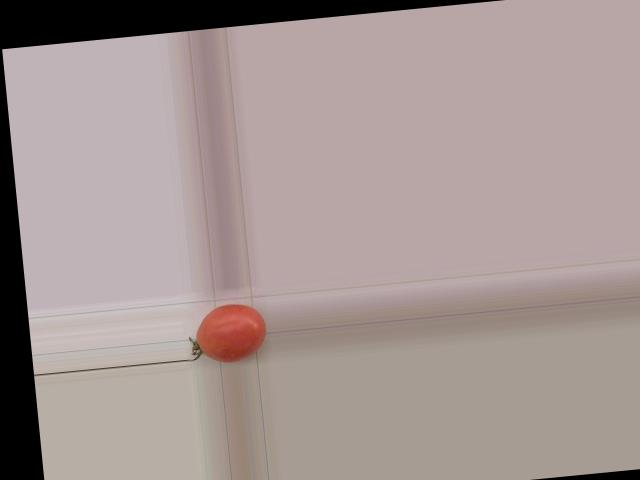tomato: (193, 301, 268, 365)
